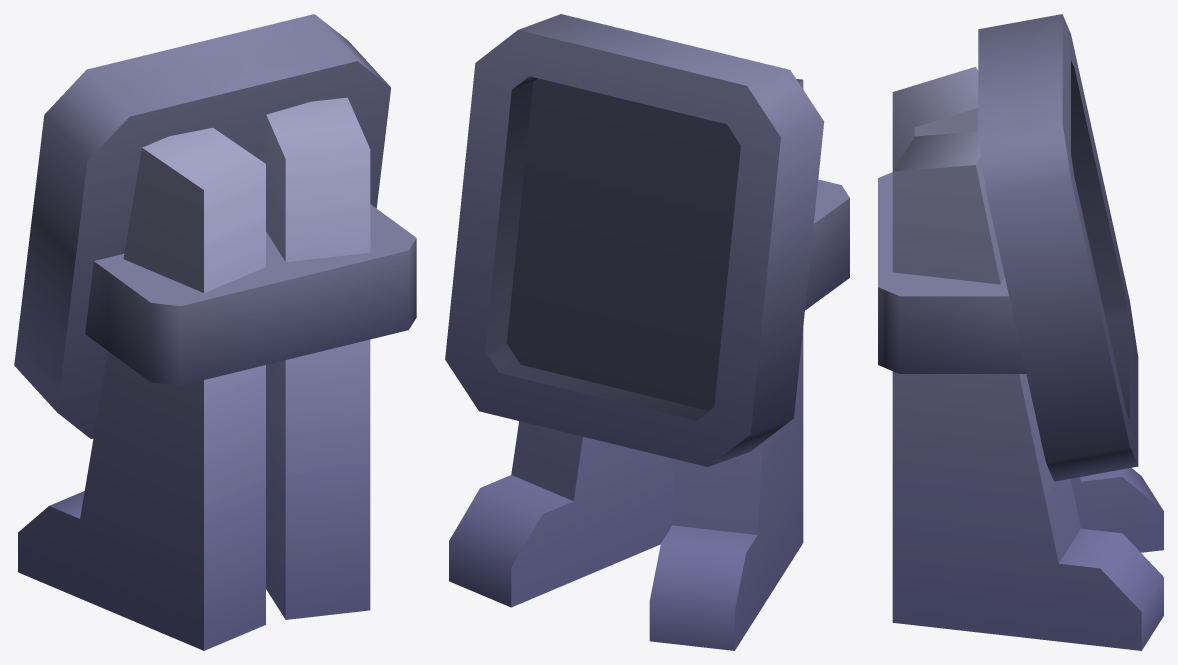
Rendered from screen-small.glb.
The picture shows the model from 3 angles, left to right: view 1: azimuth 30°, elevation 25°; view 2: azimuth 150°, elevation 25°; view 3: azimuth 270°, elevation 25°; orthographic projection. The views are drawn at different scales.
Parts seen in each view (by area): view 1: screen-small; view 2: screen-small; view 3: screen-small.
Boxes of the visible parts, x1=… form: screen-small: x1=14, y1=14, x2=416, y2=650; screen-small: x1=445, y1=14, x2=849, y2=650; screen-small: x1=878, y1=14, x2=1163, y2=650.
Bounding box in the file's own units: 0.6 × 0.9913 × 0.4992.
1 material, 1 textured.
